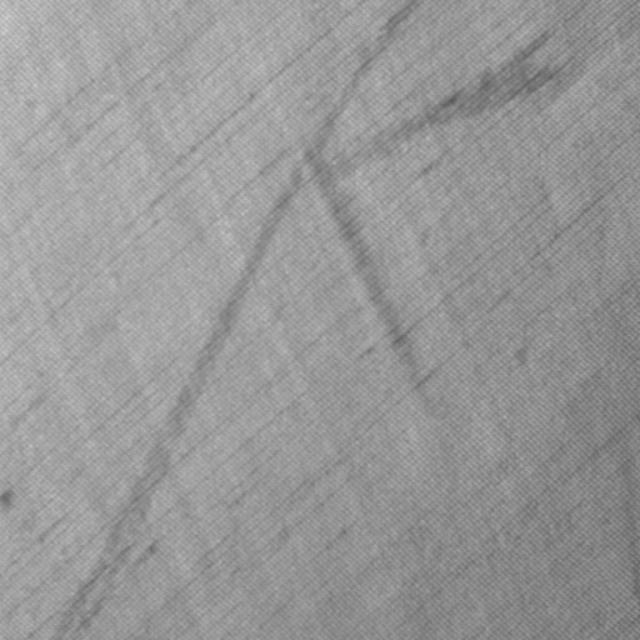oil spot: (48, 0, 432, 638), (301, 144, 438, 421), (325, 25, 559, 185)
